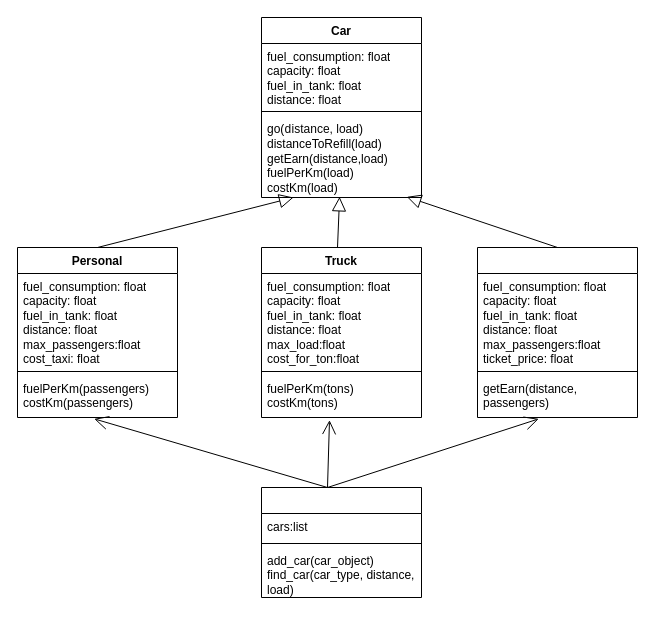
The diagram is 655 pixels wide and 618 high, and some of its shapes have lost their labels. Each missing label, with the box of its shape:
Autopark: (260, 486, 422, 598)
Bus: (476, 246, 638, 418)
